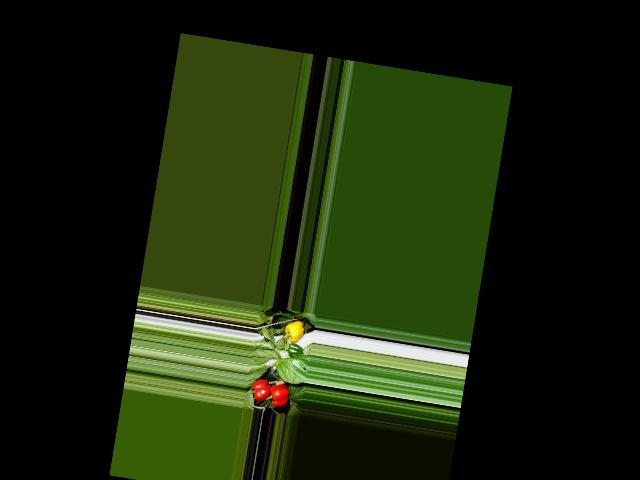bell_pepper: (282, 316, 307, 344)
